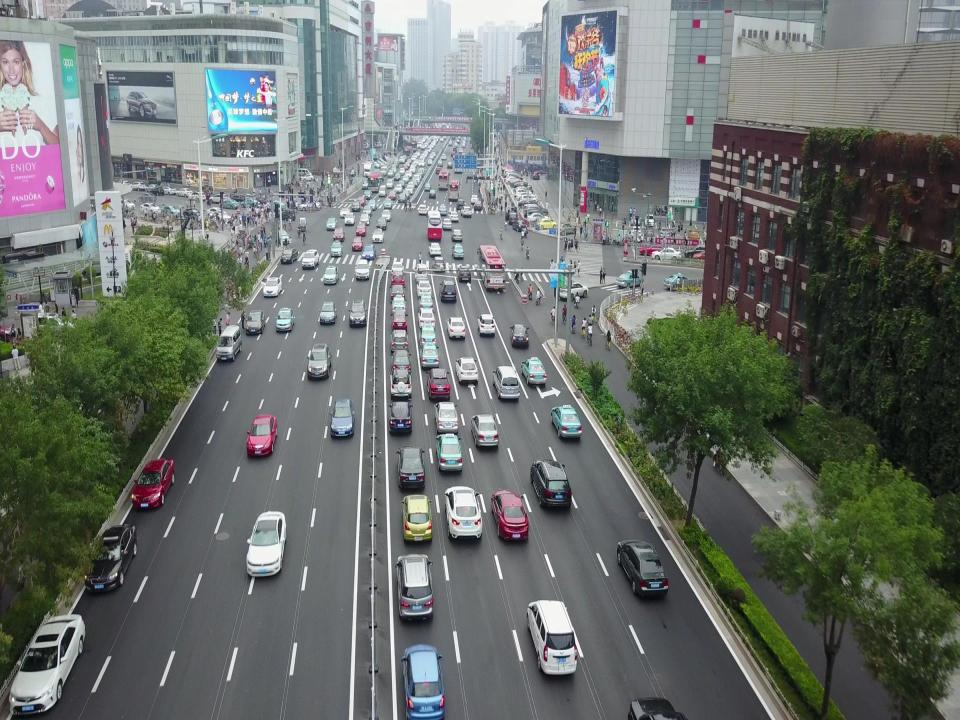bus: (476, 244, 506, 291), (426, 211, 442, 240), (368, 173, 383, 192), (439, 169, 451, 191), (448, 179, 461, 199), (404, 146, 412, 158), (410, 140, 417, 151)
car: (8, 615, 86, 718), (84, 524, 137, 592), (402, 644, 446, 719), (616, 539, 670, 599), (248, 511, 286, 577), (396, 552, 434, 617), (130, 458, 174, 510), (444, 485, 484, 540), (490, 488, 530, 541), (529, 459, 572, 508), (624, 692, 684, 720), (401, 494, 433, 542), (246, 414, 278, 456), (551, 406, 583, 442), (435, 433, 463, 472), (398, 447, 426, 485), (471, 413, 499, 449), (330, 398, 355, 437), (433, 401, 459, 433), (387, 401, 413, 433), (306, 345, 331, 378), (520, 356, 546, 387), (426, 367, 450, 400), (390, 367, 412, 400), (454, 356, 478, 384), (558, 280, 588, 301), (663, 272, 690, 290), (446, 316, 466, 340), (614, 270, 642, 287), (349, 300, 367, 325), (261, 277, 282, 298), (510, 323, 530, 345), (246, 310, 264, 334), (276, 306, 294, 330), (391, 351, 411, 372), (477, 313, 495, 336), (421, 344, 439, 367), (439, 280, 457, 303), (319, 300, 337, 322), (301, 249, 320, 269), (390, 329, 408, 350), (419, 324, 437, 345), (684, 244, 710, 258), (652, 249, 682, 261), (639, 243, 665, 256), (523, 203, 548, 216), (418, 309, 435, 328), (355, 259, 370, 280), (693, 249, 717, 262), (391, 312, 408, 330), (323, 265, 339, 284), (280, 247, 298, 263), (390, 296, 406, 314), (416, 280, 432, 297), (140, 201, 160, 214), (160, 205, 180, 217), (554, 222, 574, 234), (451, 243, 465, 260), (117, 198, 135, 211), (390, 285, 406, 299), (391, 270, 405, 286), (391, 261, 405, 277), (458, 267, 472, 283), (210, 211, 230, 222), (362, 244, 376, 259), (419, 294, 433, 309), (432, 257, 446, 272), (274, 230, 290, 243), (207, 207, 227, 217), (330, 241, 342, 256), (139, 193, 157, 203), (210, 193, 228, 203), (333, 226, 345, 241), (372, 228, 384, 243), (538, 219, 556, 229), (280, 209, 296, 220), (351, 237, 363, 251), (688, 227, 700, 241), (513, 186, 534, 194), (183, 207, 201, 216), (526, 208, 544, 217), (325, 217, 337, 230), (359, 213, 371, 226), (428, 242, 440, 255), (451, 228, 463, 241), (460, 206, 472, 219), (510, 179, 529, 187), (356, 222, 366, 237), (129, 182, 145, 191), (189, 191, 205, 200), (222, 200, 238, 209), (344, 212, 355, 225), (362, 162, 372, 176), (631, 213, 641, 226), (160, 186, 176, 194), (177, 188, 191, 197), (518, 199, 536, 206), (519, 195, 537, 202), (377, 218, 387, 230), (381, 209, 391, 221), (442, 218, 452, 230), (644, 214, 654, 226), (631, 226, 641, 238), (644, 227, 654, 239), (528, 214, 545, 221), (299, 173, 313, 181), (516, 192, 532, 199), (515, 190, 531, 197), (505, 176, 519, 184), (438, 204, 447, 216), (457, 198, 465, 211), (363, 206, 373, 216), (340, 207, 350, 217), (367, 200, 377, 210), (449, 210, 459, 220), (144, 184, 158, 191), (351, 202, 361, 211), (384, 198, 392, 209), (419, 203, 427, 214), (471, 194, 479, 205), (661, 227, 669, 238), (151, 187, 163, 194), (510, 174, 522, 181), (505, 173, 517, 180), (356, 197, 366, 205), (370, 160, 380, 168), (474, 200, 482, 210), (364, 190, 372, 199), (388, 190, 396, 199), (398, 193, 406, 202), (402, 189, 410, 198), (405, 185, 413, 194), (398, 179, 406, 188), (424, 182, 432, 191), (532, 171, 540, 180), (121, 180, 129, 188), (381, 155, 389, 163), (394, 184, 402, 192), (402, 174, 409, 183), (506, 172, 516, 178), (418, 168, 426, 175), (405, 170, 412, 178), (362, 179, 368, 188), (413, 174, 419, 183), (435, 166, 441, 175), (387, 170, 394, 177), (429, 190, 436, 197), (374, 160, 382, 166), (411, 179, 417, 187), (427, 158, 433, 166), (416, 140, 422, 148), (363, 142, 369, 149), (408, 182, 414, 189), (415, 173, 421, 180), (428, 153, 434, 160), (410, 166, 416, 173), (411, 162, 417, 169), (394, 173, 401, 179), (399, 156, 405, 163), (401, 154, 407, 161), (446, 162, 452, 169), (441, 153, 447, 160), (413, 160, 419, 166), (419, 160, 425, 166), (425, 139, 431, 145), (411, 156, 417, 162), (405, 162, 411, 168), (399, 168, 405, 174), (431, 151, 436, 158), (418, 158, 423, 164), (415, 151, 420, 157), (402, 165, 408, 170), (437, 160, 442, 166), (420, 156, 424, 163), (428, 145, 432, 152), (461, 151, 465, 158), (431, 141, 435, 147), (425, 141, 429, 147), (421, 145, 425, 151), (406, 159, 412, 163), (419, 140, 423, 146), (462, 139, 466, 145), (462, 143, 466, 149), (459, 147, 463, 153), (422, 152, 426, 157), (424, 151, 428, 156), (426, 148, 430, 153), (429, 144, 433, 149), (432, 139, 436, 144), (434, 137, 438, 142), (436, 135, 440, 140), (429, 136, 433, 141), (428, 138, 432, 143), (421, 138, 425, 143), (448, 141, 452, 146), (452, 135, 456, 140), (450, 151, 454, 156), (452, 147, 456, 152), (463, 136, 467, 141), (413, 154, 417, 158), (454, 143, 458, 147), (456, 140, 460, 144), (440, 137, 443, 142), (458, 136, 461, 139)
van: (526, 597, 579, 677), (492, 365, 520, 401), (215, 325, 241, 363), (31, 314, 66, 335), (415, 264, 427, 280), (298, 168, 312, 178), (503, 170, 517, 178), (378, 185, 386, 197), (372, 158, 384, 164), (386, 179, 394, 188), (380, 166, 388, 175), (417, 169, 423, 177), (390, 164, 396, 172), (421, 153, 425, 161), (442, 135, 447, 140), (423, 143, 427, 149)
